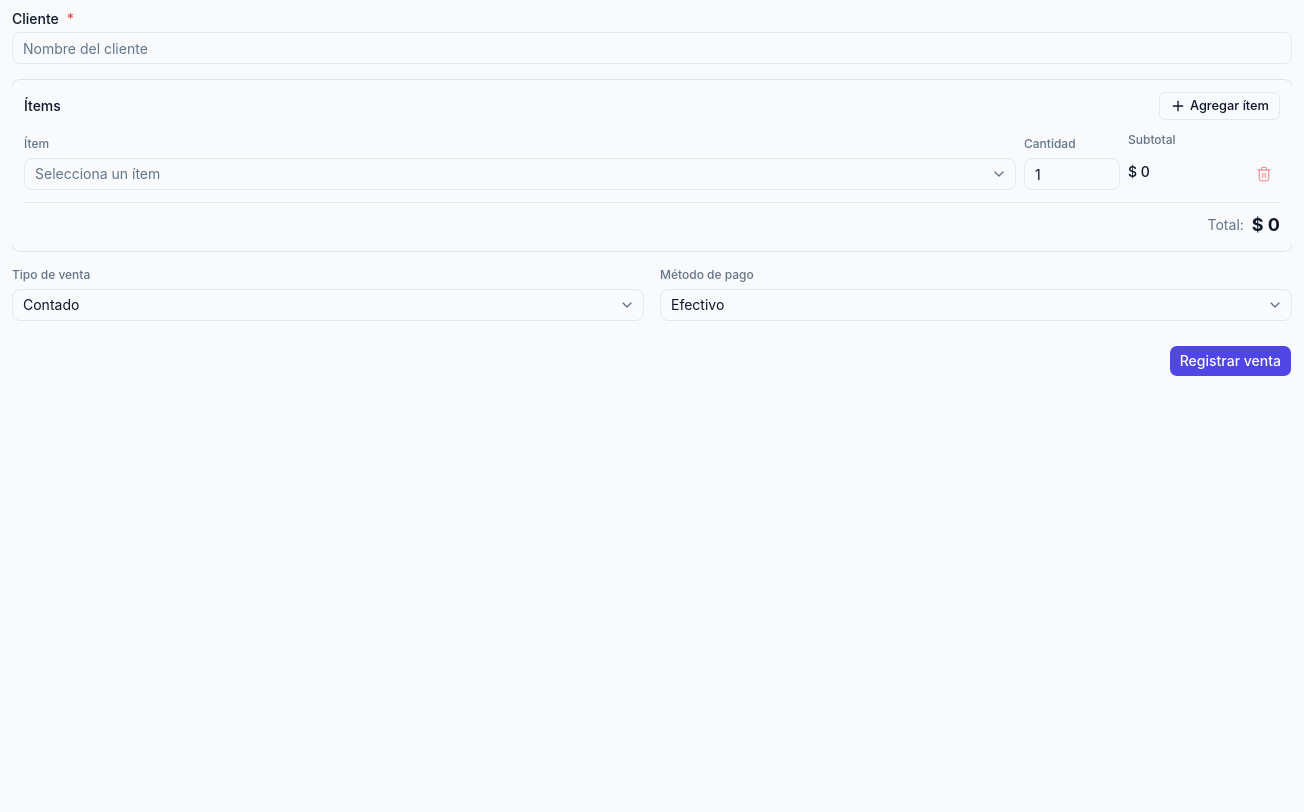
Test case: SaleForm — crédito con servicio › rechaza registrar a crédito cuando hay un servicio
Type "Ana" into the field labelled "Cliente *". click: (652,48)
box: [12,32,1292,64]
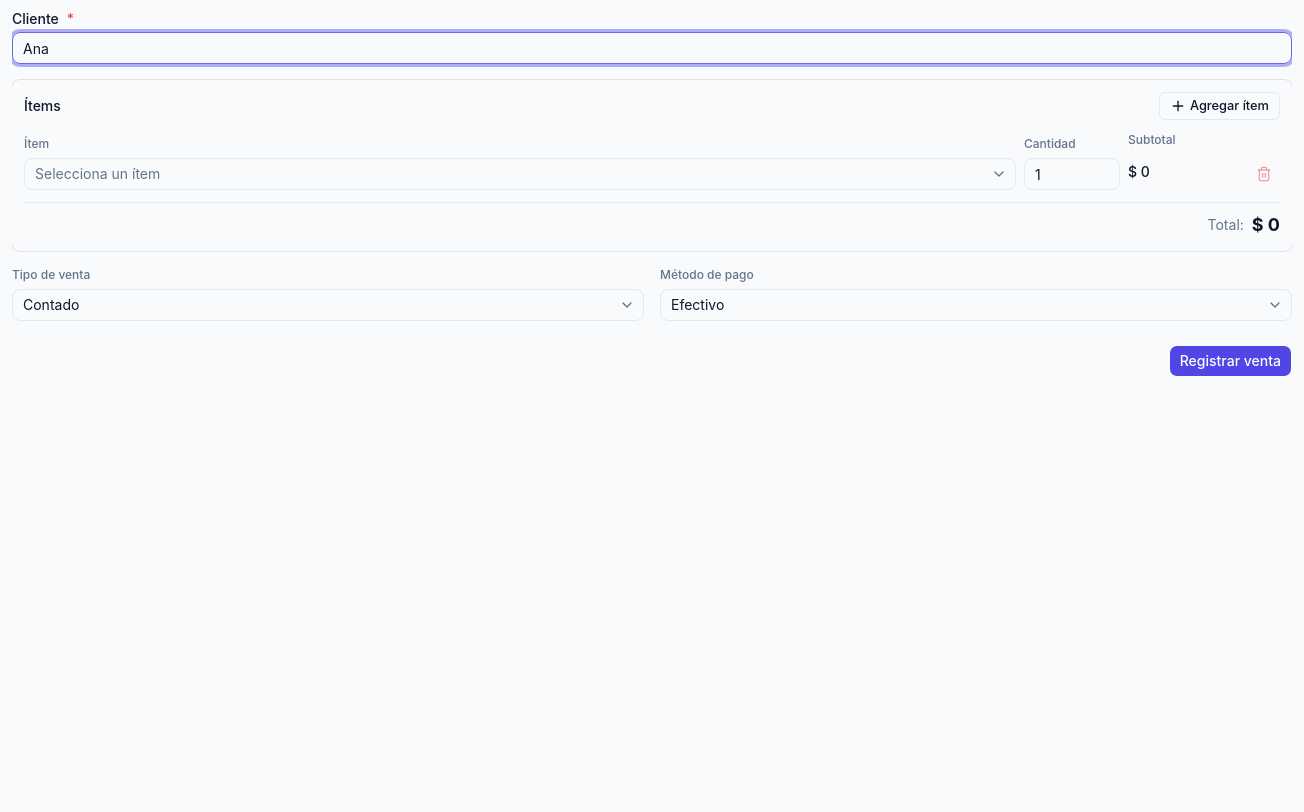
Click the dropdown named "ítem 1". click: (98,174)
box: [24,158,1016,190]
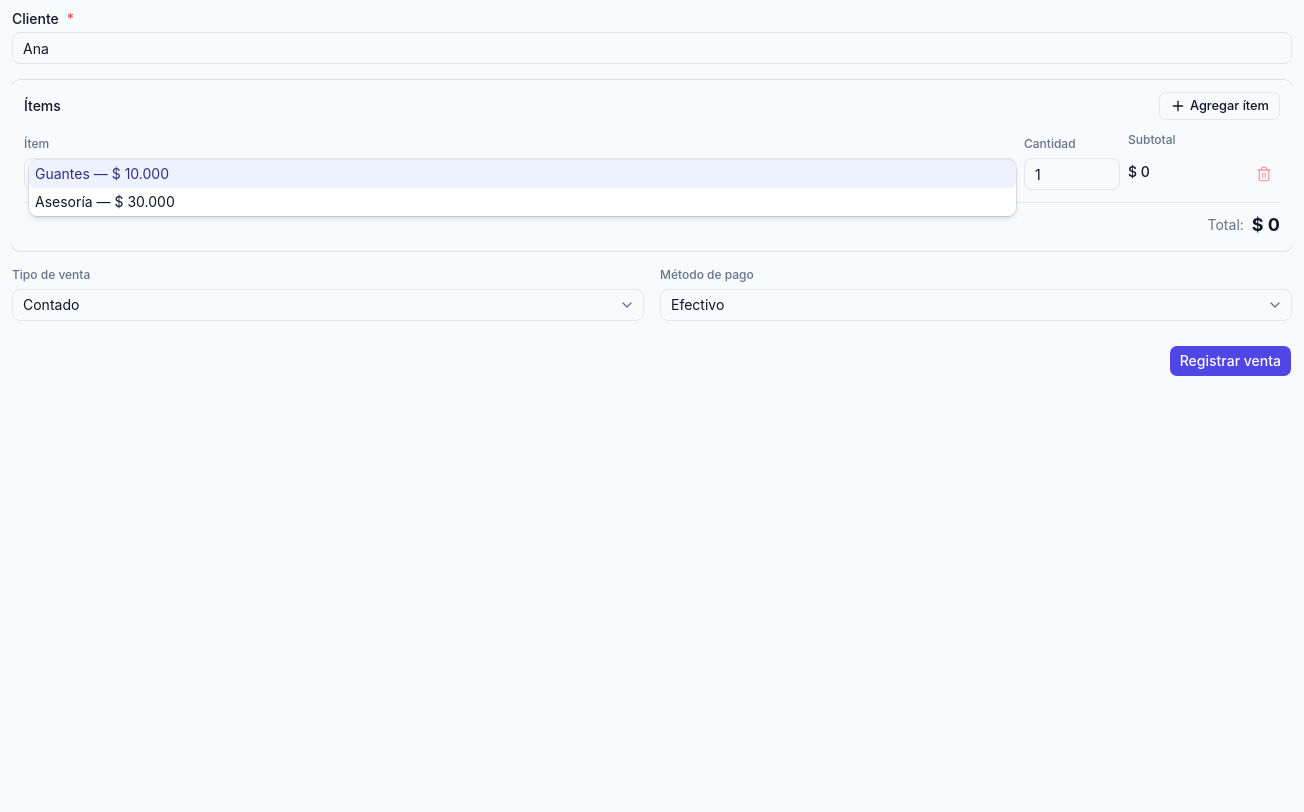
Click the option "Asesoría — $ 30.000". click: (105,202)
box: [35,193,175,210]
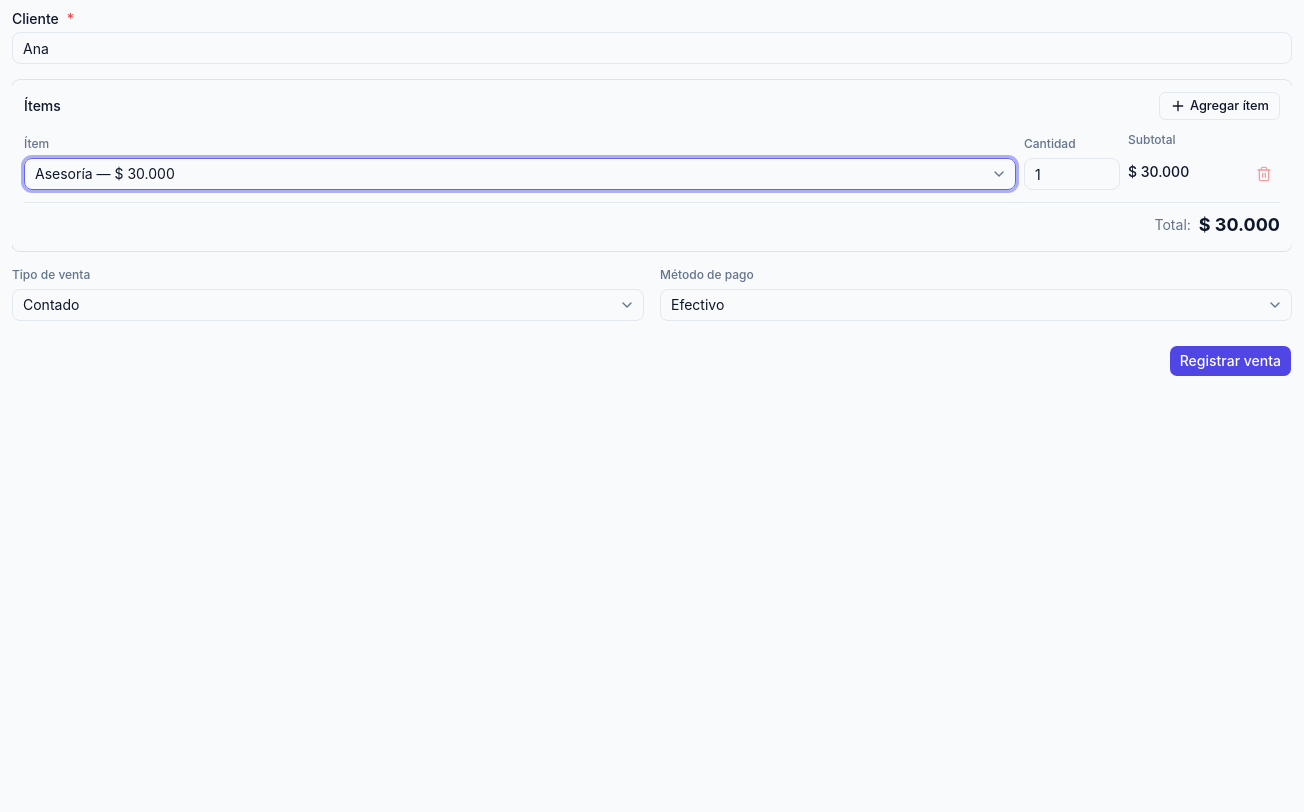
Click the dropdown named "tipo de venta". click: (51,304)
box: [12,289,644,321]
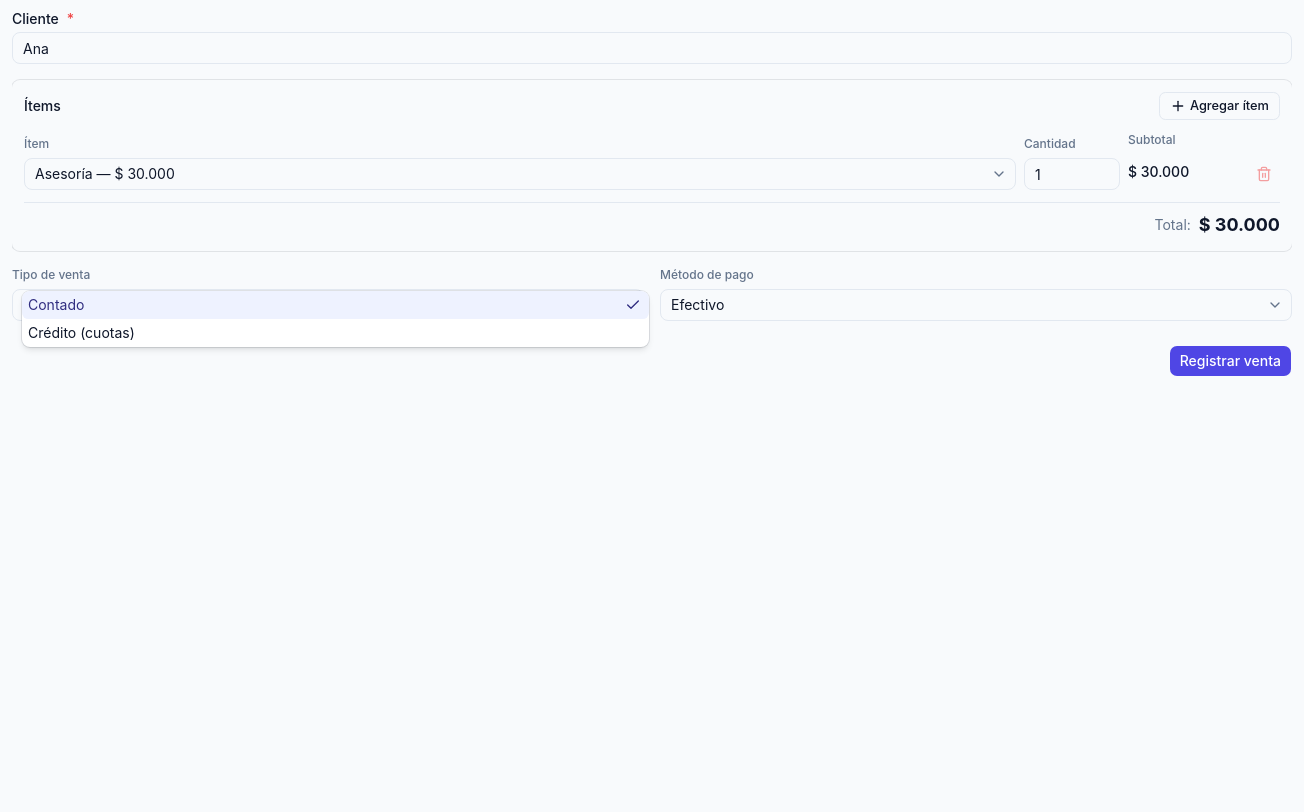
Click the option "Crédito (cuotas)". click: (81,332)
box: [28,324,135,341]
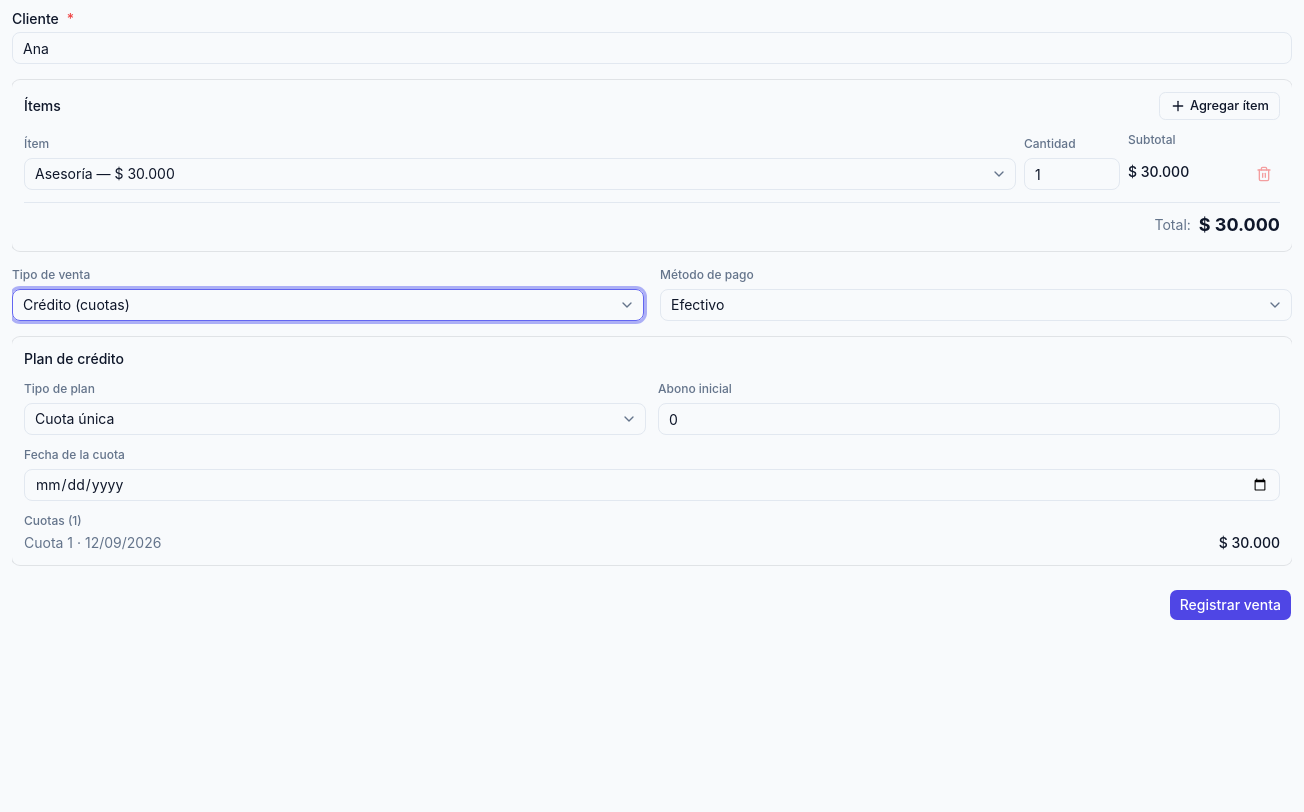
Click the button "Registrar venta". click: (1230,605)
box: [1169,589,1292,621]
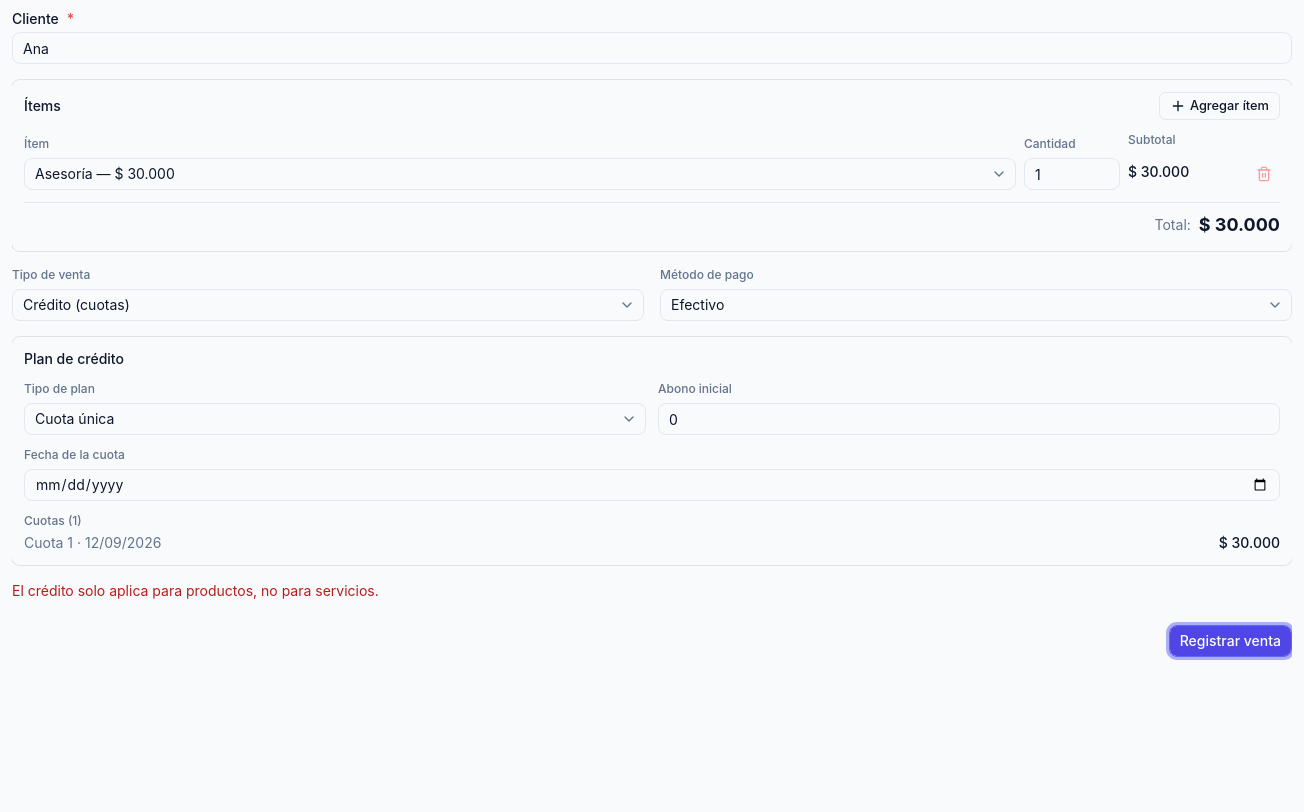
Expected: the text "El crédito solo aplica para productos, no para servicios." is shown, [12,582,379,599]
